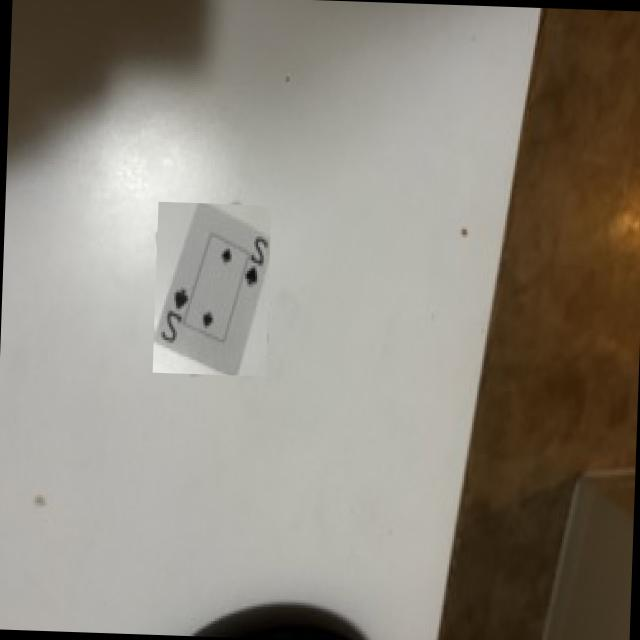2 of spades: (153, 203, 268, 375)
